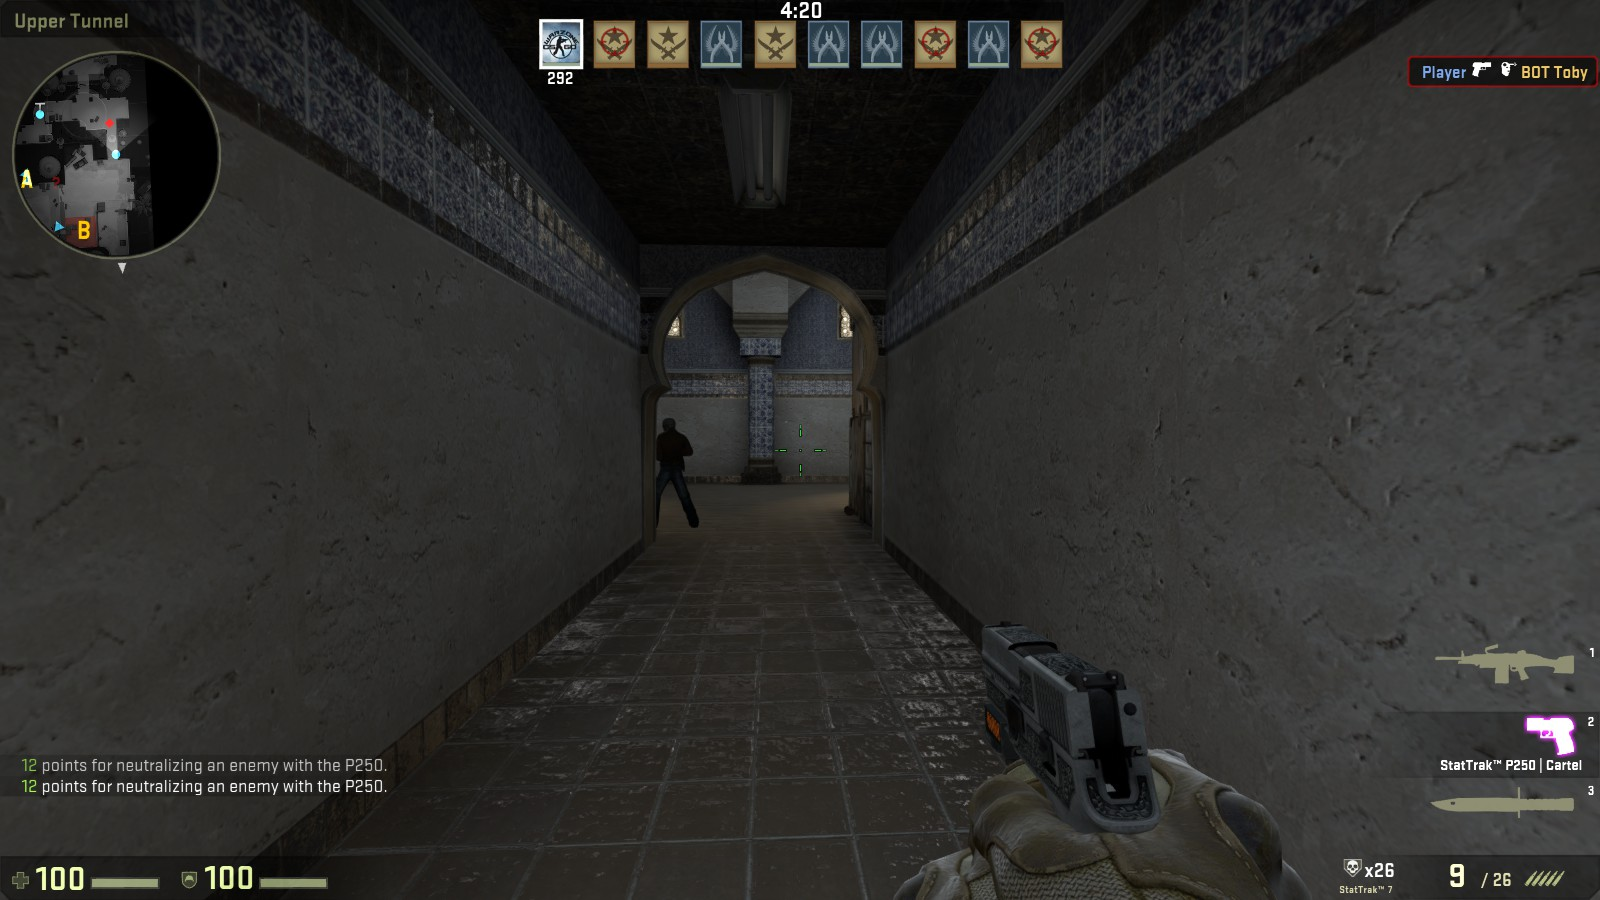t: (652, 416, 695, 529)
th: (662, 416, 681, 436)
